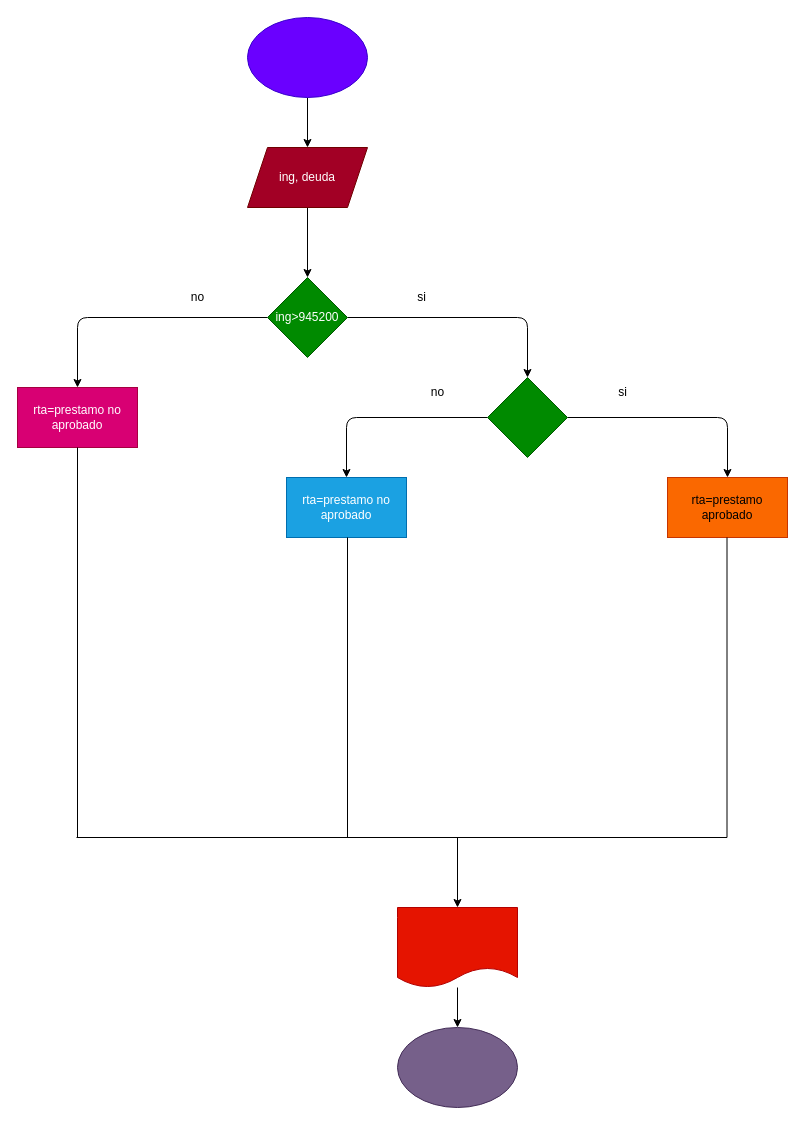
This 805x1125 diagram has some shape labels left out. The centre of each missing label's shape, as x and y in pixels:
deuda==0: [527,417]
INICIO: [307,57]
rta: [457,947]
